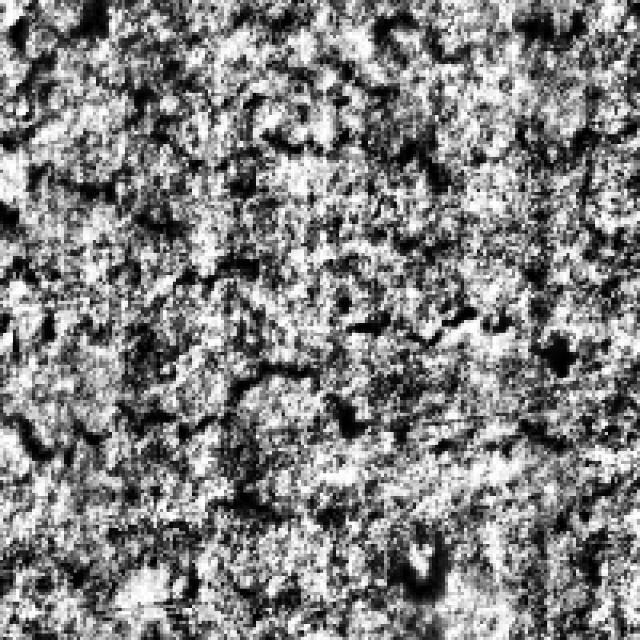Pitted_Surface: (0, 256, 576, 480), (0, 150, 509, 381), (19, 0, 618, 179)
